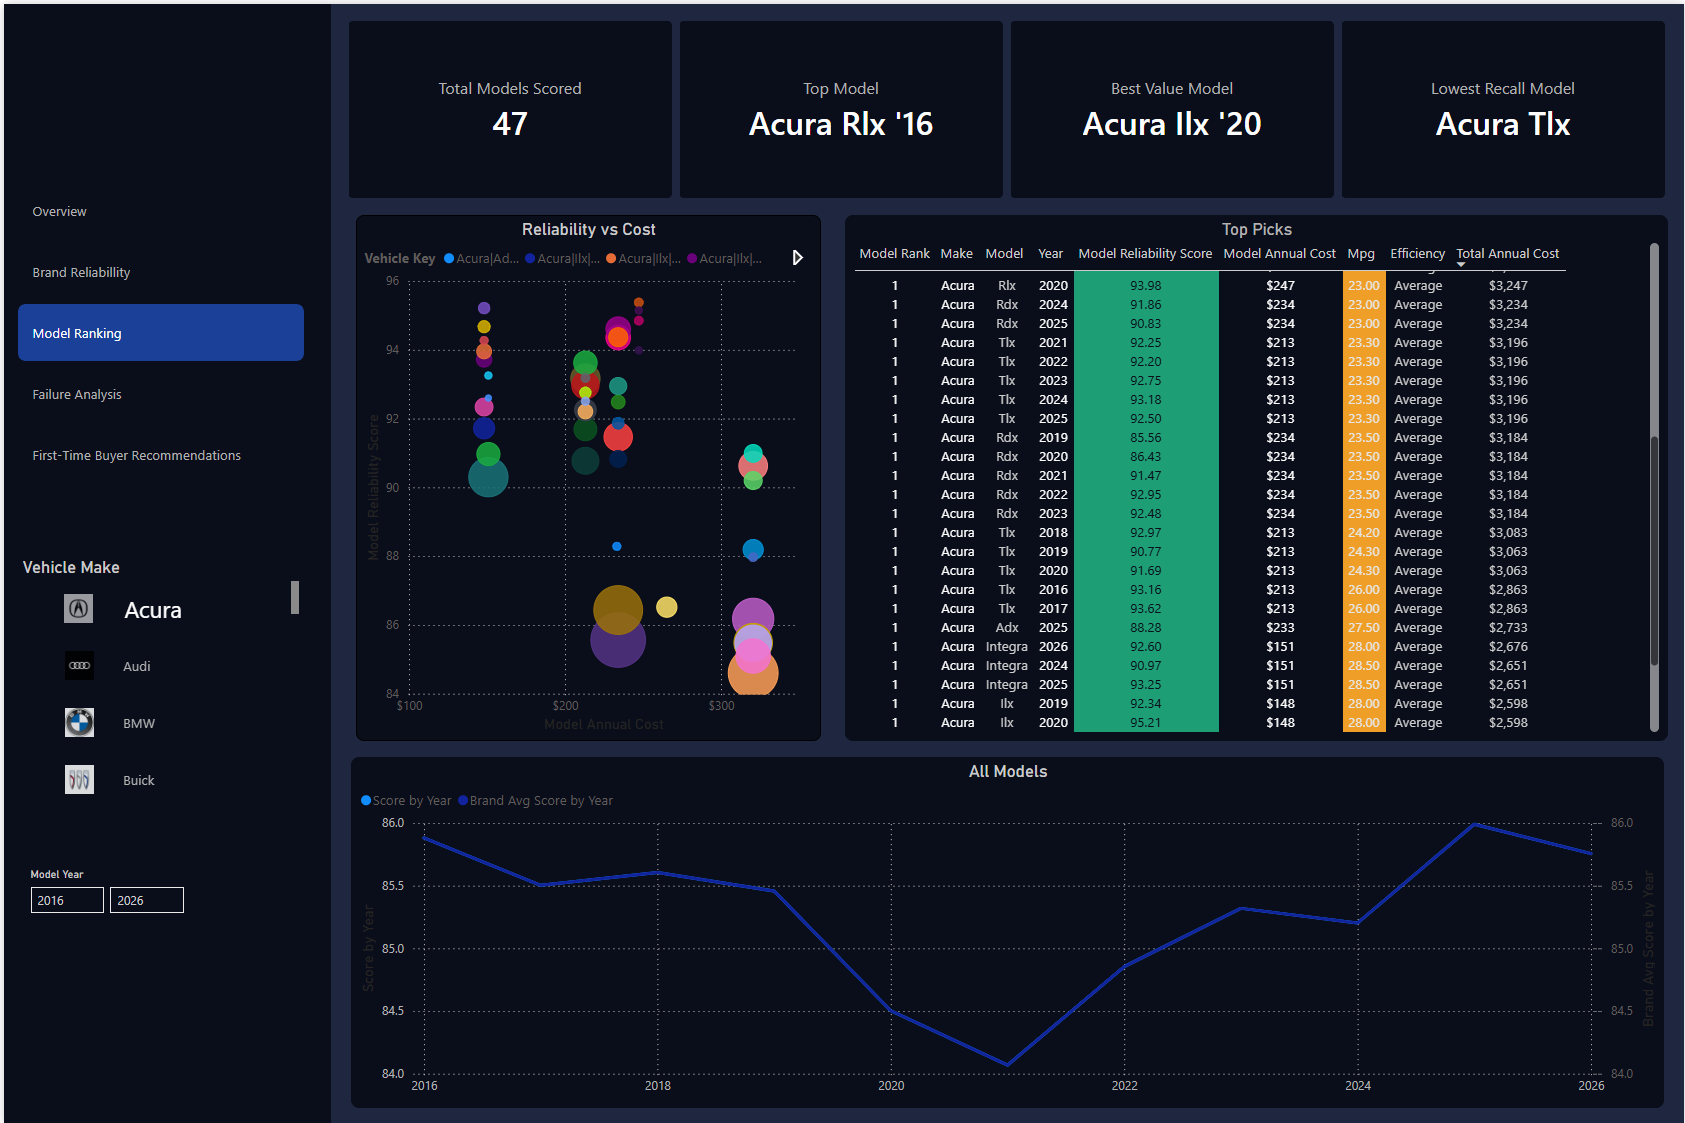

The page's visual inventory and layout, read from the dashboard file:
{"tool":"powerbi","page":{"name":"Model Ranking","canvas":[1580,1280],"ordinal":2},"visuals":[{"type":"shape","box":[0,0,326.9,1279.7],"z":0},{"type":"pageNavigator","box":[13.8,177.5,286.1,301.6],"z":1000},{"type":"cardVisual","fields":{"Data":["gold_fact_vehicle_reliability.Total Models Scored","gold_fact_vehicle_reliability.Top Model","gold_fact_vehicle_reliability.Best Value Model","gold_fact_vehicle_reliability.Lowest Recall Model"]},"box":[326.9,0,1253.8,255.1],"z":2000},{"type":"advancedSlicerVisual","fields":{"Values":["silver_logos.vehicle_make"]},"box":[13.8,553.3,286.1,255.1],"z":3000},{"type":"scatterChart","title":"Reliability vs Cost","fields":{"X":["gold_fact_vehicle_reliability.Model Annual Cost"],"Y":["gold_fact_vehicle_reliability.Model Reliability Score"],"Size":["gold_fact_vehicle_reliability.Model Complaint Count"],"Series":["gold_fact_vehicle_reliability.Vehicle Key"],"Category":["gold_fact_vehicle_reliability.Vehicle Key"]},"box":[350.8,255.1,526.2,482.4],"z":4000},{"type":"tableEx","title":"Top 10 models","fields":{"Values":["gold_fact_vehicle_reliability.Model Rank","gold_fact_vehicle_reliability.vehicle_make","gold_fact_vehicle_reliability.vehicle_model","gold_fact_vehicle_reliability.model_year","gold_fact_vehicle_reliability.Model Reliability Score","gold_fact_vehicle_reliability.Model Annual Cost"]},"box":[903.1,255.1,663.6,482.6],"z":5000},{"type":"slicer","fields":{"Values":["gold_fact_vehicle_reliability.model_year"]},"box":[14,859.1,209.3,69.8],"z":6000},{"type":"lineChart","fields":{"Category":["gold_fact_vehicle_reliability.model_year"],"Y":["gold_fact_vehicle_reliability.Score by Year"],"Y2":["gold_fact_vehicle_reliability.Brand Avg Score by Year"]},"box":[351.6,756.6,1215.1,505],"z":7000}]}

Visuals, with their boxes on the page's 1580x1280 design canvas (x1, y1, x2, y2). These are canvas units, not pixel positions in the 1685x1123 screenshot, which may show the page scaled, cropped or inside an application window:
shape: BBox(0, 0, 327, 1280)
pageNavigator: BBox(14, 178, 300, 479)
cardVisual - gold_fact_vehicle_reliability.Total Models Scored x gold_fact_vehicle_reliability.Top Model: BBox(327, 0, 1581, 255)
advancedSlicerVisual - silver_logos.vehicle_make: BBox(14, 553, 300, 808)
"Reliability vs Cost" scatterChart: BBox(351, 255, 877, 738)
"Top 10 models" tableEx: BBox(903, 255, 1567, 738)
slicer - gold_fact_vehicle_reliability.model_year: BBox(14, 859, 223, 929)
lineChart - gold_fact_vehicle_reliability.model_year x gold_fact_vehicle_reliability.Score by Year: BBox(352, 757, 1567, 1262)
